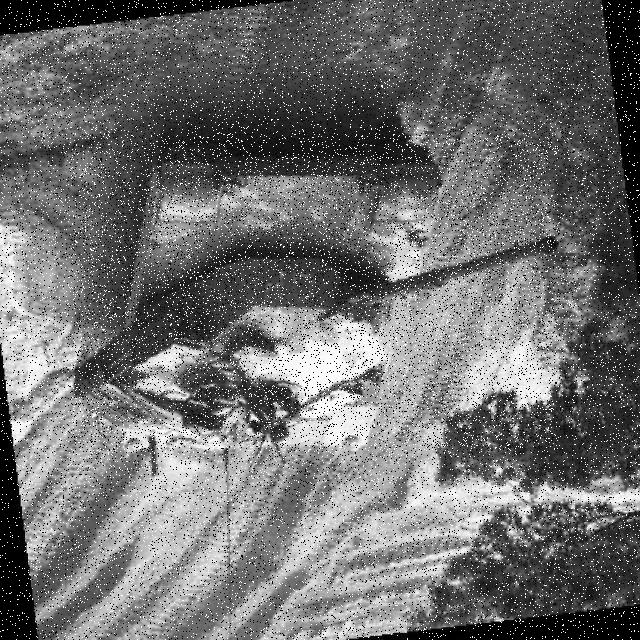MIL_MBT: (71, 133, 559, 453)
